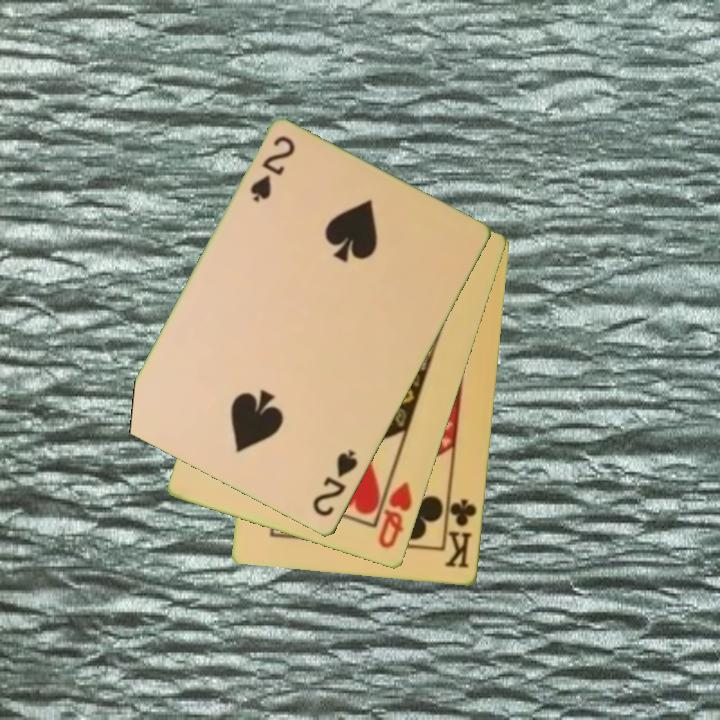2s: (246, 132, 298, 206), (309, 447, 361, 520)
Kc: (442, 490, 480, 572)
Qh: (375, 479, 416, 552)
